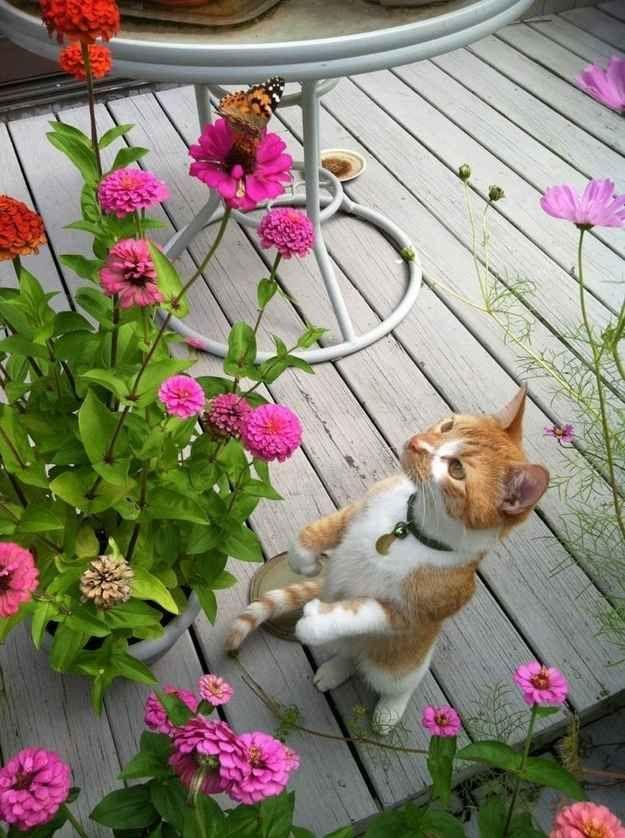kedo: (226, 384, 549, 736)
